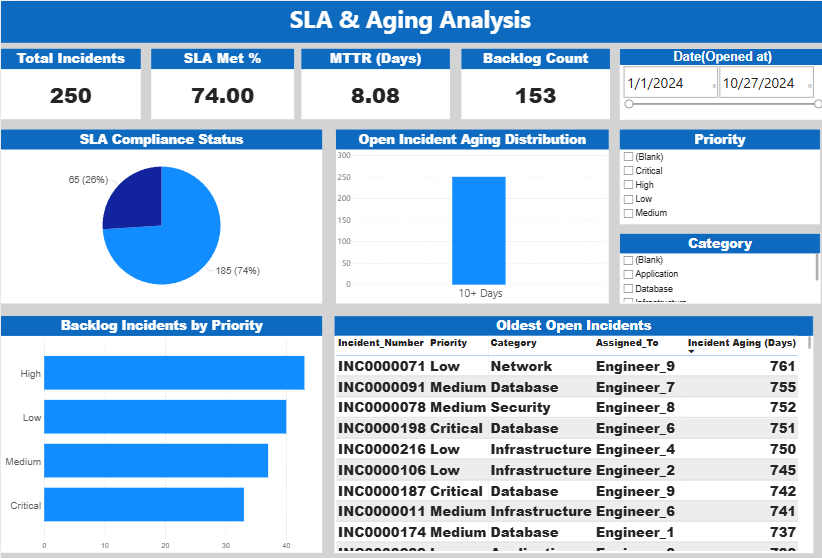

Layout of this report page (visuals, bound fields, positions):
{"tool":"powerbi","page":{"name":"SLA and Aging Analysis","canvas":[2500,1700],"ordinal":4},"visuals":[{"type":"card","title":"SLA Met %","fields":{"Values":["servicenow_changes_220rows.SLA Met %"]},"box":[453.3,146.7,433.3,213.3],"z":0},{"type":"textbox","box":[0,0,2500,126.7],"z":1000},{"type":"card","title":"Total Incidents","fields":{"Values":["CountNonNull(servicenow_incidents_250rows.Incident_Number)"]},"box":[0,146.7,423.3,213.3],"z":2000},{"type":"card","title":"MTTR (Days)","fields":{"Values":["servicenow_changes_220rows.MTTR (Days)"]},"box":[910,146.7,450,213.3],"z":3000},{"type":"card","title":"Backlog Count","fields":{"Values":["servicenow_changes_220rows.Backlog Incidents"]},"box":[1393.3,146.7,450,213.3],"z":4000},{"type":"slicer","title":"Date(Opened at)","fields":{"Values":["servicenow_incidents_250rows.Opened_At"]},"box":[1876.7,146.7,623.3,213.3],"z":5000},{"type":"pieChart","title":"SLA Compliance Status","fields":{"Y":["CountNonNull(servicenow_incidents_250rows.Incident_Number)"],"Category":["servicenow_incidents_250rows.SLA Met"]},"box":[0,390,973.3,526.7],"z":6000},{"type":"clusteredColumnChart","title":"Open Incident Aging Distribution","fields":{"Category":["servicenow_incidents_250rows.Aging Bucket"],"Y":["CountNonNull(servicenow_incidents_250rows.Incident_Number)"]},"box":[1016.7,390,826.7,526.7],"z":7000},{"type":"barChart","fields":{"Category":["servicenow_incidents_250rows.Priority"],"Y":["servicenow_changes_220rows.Backlog Incidents"]},"box":[0,956.7,973.3,716.7],"z":8000},{"type":"tableEx","title":"Oldest Open Incidents","fields":{"Values":["servicenow_incidents_250rows.Incident_Number","servicenow_incidents_250rows.Priority","servicenow_incidents_250rows.Category","servicenow_incidents_250rows.Assigned_To","servicenow_incidents_250rows.Incident Aging (Days)"]},"box":[1010,956.7,1450,716.7],"z":9000},{"type":"slicer","title":"Priority","fields":{"Values":["servicenow_incidents_250rows.Priority"]},"box":[1876.7,390,606.7,286.7],"z":10000},{"type":"slicer","title":"Category","fields":{"Values":["servicenow_incidents_250rows.Category"]},"box":[1876.7,706.7,606.7,210],"z":11000}]}

Visuals, with their boxes in screenshot pixels (x1, y1, x2, y2), scaled from the page's 2500x1700 canvas onto the 822x558 screenshot:
"SLA Met %" card: select_region(149, 48, 292, 118)
textbox: select_region(0, 0, 821, 42)
"Total Incidents" card: select_region(0, 48, 139, 118)
"MTTR (Days)" card: select_region(299, 48, 447, 118)
"Backlog Count" card: select_region(458, 48, 606, 118)
"Date(Opened at)" slicer: select_region(617, 48, 821, 118)
"SLA Compliance Status" pieChart: select_region(0, 128, 320, 301)
"Open Incident Aging Distribution" clusteredColumnChart: select_region(334, 128, 606, 301)
barChart - servicenow_incidents_250rows.Priority x servicenow_changes_220rows.Backlog Incidents: select_region(0, 314, 320, 549)
"Oldest Open Incidents" tableEx: select_region(332, 314, 809, 549)
"Priority" slicer: select_region(617, 128, 817, 222)
"Category" slicer: select_region(617, 232, 817, 301)
